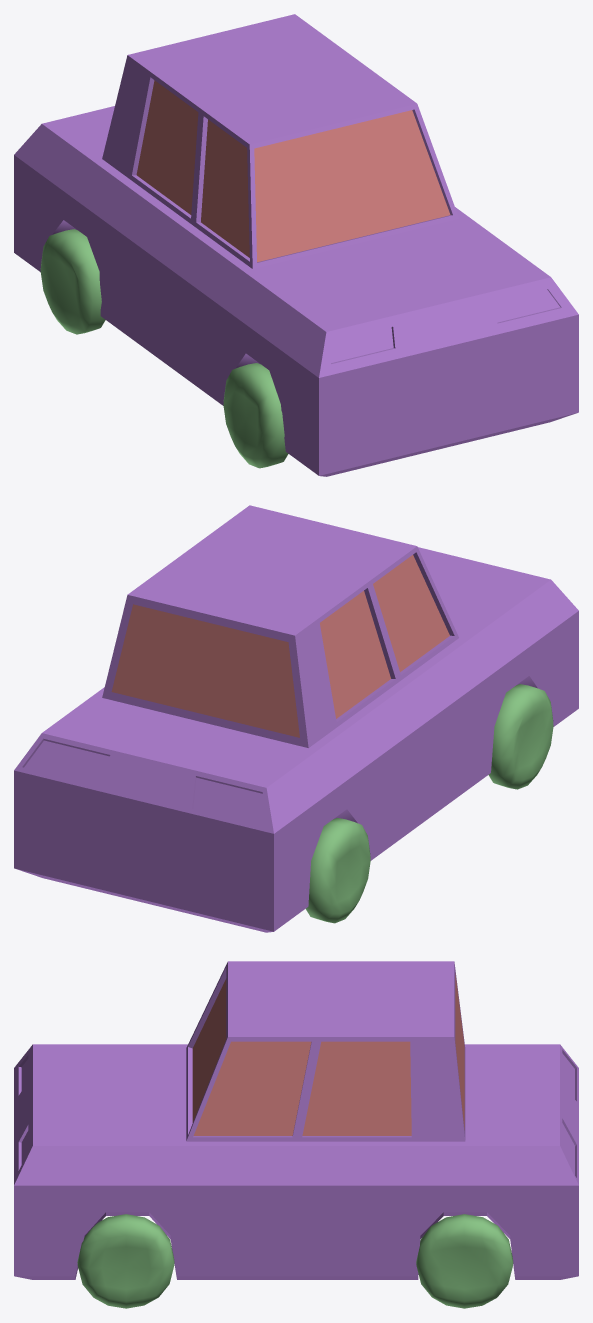
File: voiture.fbx
3 views of the same model, one above another, from view 1: azimuth 30°, elevation 25°; view 2: azimuth 150°, elevation 25°; view 3: azimuth 270°, elevation 25° (orthographic). The views are drawn at different scales.
Parts seen in each view (by area): view 1: Voiture; view 2: Voiture; view 3: Voiture.
Part boxes in pixels (box(x1,y1,x2,y2)): Voiture: box(14, 14, 578, 476); Voiture: box(14, 505, 578, 932); Voiture: box(14, 961, 578, 1308).
Size of the model in its own units: 182 by 160 by 331.
